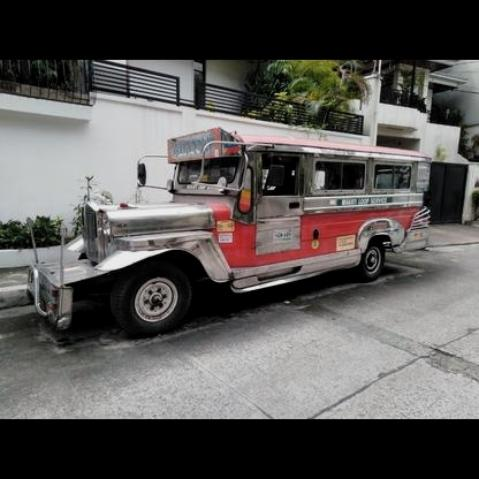jeepney: (32, 116, 451, 354)
